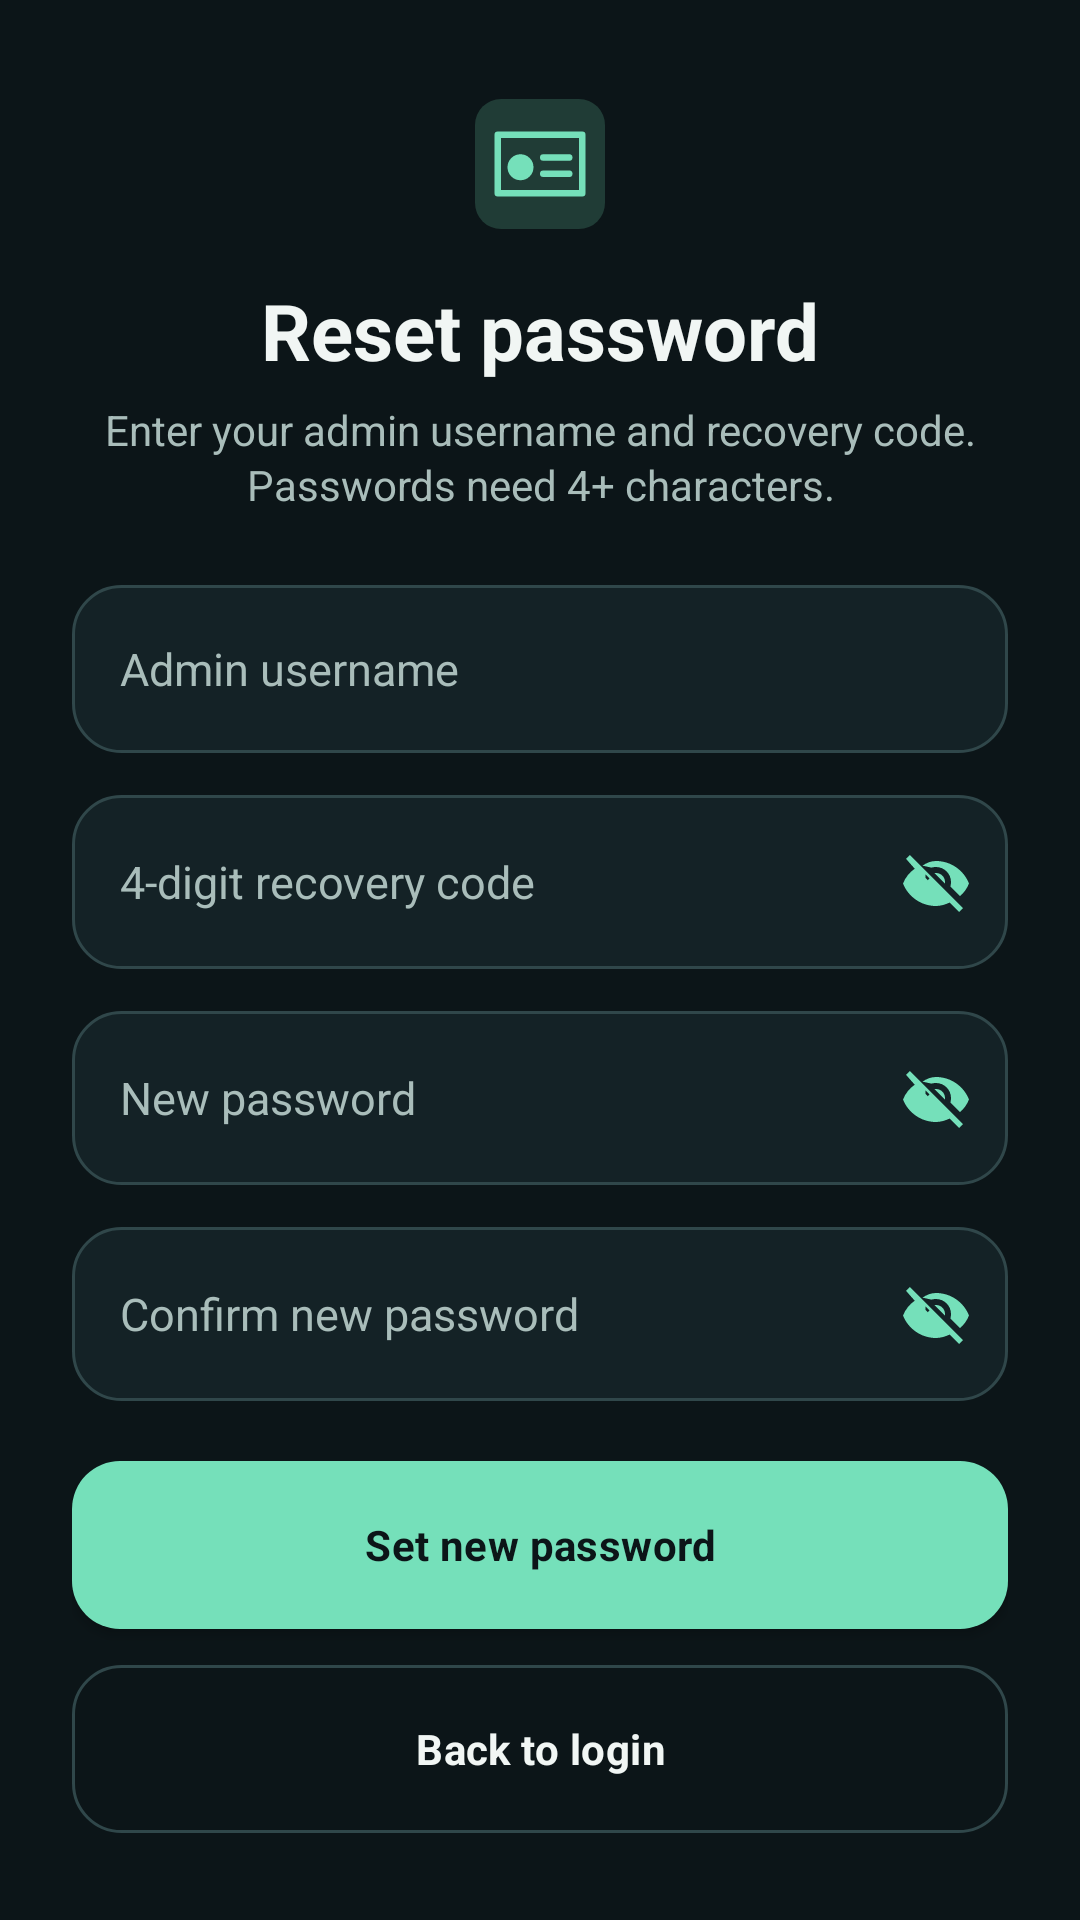

Where to tap for icons on this 1080×1920 app screen, as (x,y):
Show password: (936,1099), (936,1315)
Show recovery code: (936,883)
